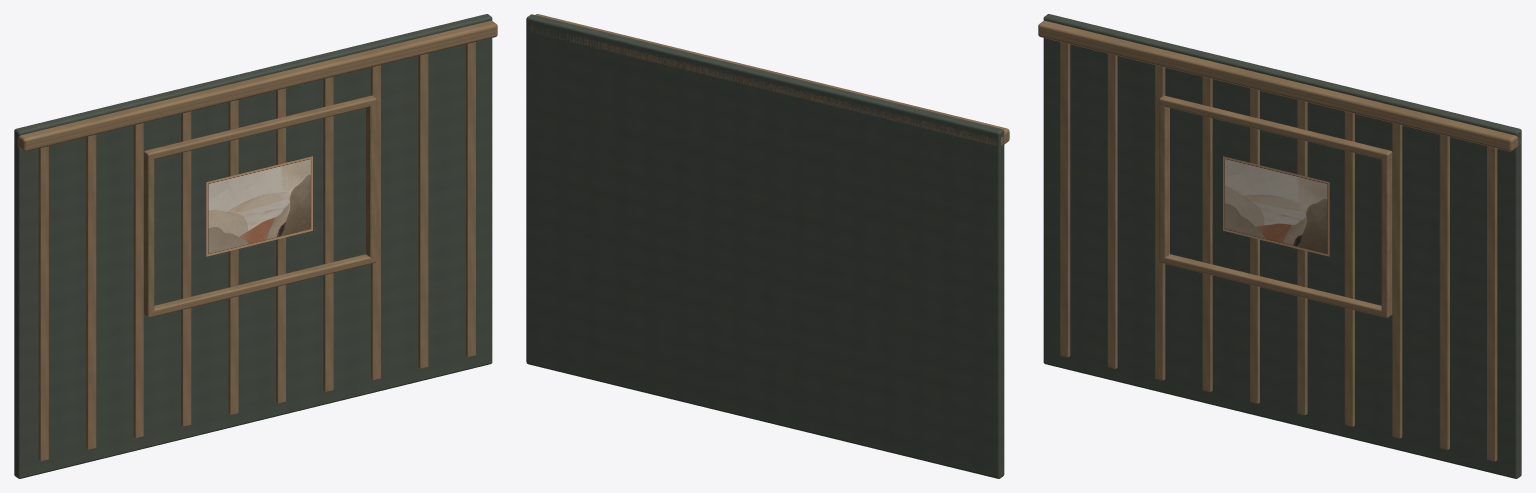
Rendered from feature-wall.glb.
The picture shows the model from 3 angles, left to right: view 1: azimuth 30°, elevation 25°; view 2: azimuth 150°, elevation 25°; view 3: azimuth 330°, elevation 25°; orthographic projection.
Visible parts, largest first — view 1: CANONICAL backing, ACCENT oak feature ledge, CANONICAL AI wall artwork, ACCENT oak reveal 2, ACCENT oak reveal 3, ACCENT oak reveal 10, ACCENT oak reveal 1, ACCENT oak reveal 9, ACCENT oak reveal 4, ACCENT oak reveal 7, ACCENT artwork frame top, ACCENT artwork frame bottom (+5 smaller); view 2: CANONICAL backing, ACCENT oak feature ledge; view 3: CANONICAL backing, ACCENT oak feature ledge, CANONICAL AI wall artwork, ACCENT oak reveal 1, ACCENT oak reveal 8, ACCENT oak reveal 9, ACCENT oak reveal 2, ACCENT oak reveal 10, ACCENT oak reveal 7, ACCENT oak reveal 4, ACCENT artwork frame top, ACCENT artwork frame bottom (+5 smaller).
Boxes of the visible parts, bbox=[...] form: CANONICAL backing: bbox=[14, 14, 492, 478]; ACCENT oak feature ledge: bbox=[14, 20, 497, 151]; CANONICAL AI wall artwork: bbox=[206, 156, 312, 256]; ACCENT oak reveal 2: bbox=[86, 134, 96, 450]; ACCENT oak reveal 3: bbox=[133, 123, 143, 438]; ACCENT oak reveal 10: bbox=[465, 42, 475, 357]; ACCENT oak reveal 1: bbox=[38, 146, 48, 461]; ACCENT oak reveal 9: bbox=[418, 53, 428, 368]; ACCENT oak reveal 4: bbox=[181, 111, 191, 426]; ACCENT oak reveal 7: bbox=[323, 76, 333, 392]; ACCENT artwork frame top: bbox=[143, 96, 376, 159]; ACCENT artwork frame bottom: bbox=[143, 254, 376, 317]; CANONICAL backing: bbox=[526, 14, 1004, 478]; ACCENT oak feature ledge: bbox=[530, 14, 1009, 145]; CANONICAL backing: bbox=[1043, 14, 1521, 478]; ACCENT oak feature ledge: bbox=[1038, 20, 1520, 151]; CANONICAL AI wall artwork: bbox=[1223, 156, 1329, 256]; ACCENT oak reveal 1: bbox=[1060, 42, 1070, 357]; ACCENT oak reveal 8: bbox=[1392, 123, 1402, 438]; ACCENT oak reveal 9: bbox=[1439, 134, 1449, 450]; ACCENT oak reveal 2: bbox=[1107, 53, 1117, 368]; ACCENT oak reveal 10: bbox=[1487, 146, 1497, 461]; ACCENT oak reveal 7: bbox=[1344, 111, 1354, 426]; ACCENT oak reveal 4: bbox=[1202, 76, 1212, 392]; ACCENT artwork frame top: bbox=[1159, 96, 1392, 159]; ACCENT artwork frame bottom: bbox=[1159, 254, 1392, 317].
Size of the model in its own units: 3 by 2.1 by 0.1325.
3 materials, 3 textured.
